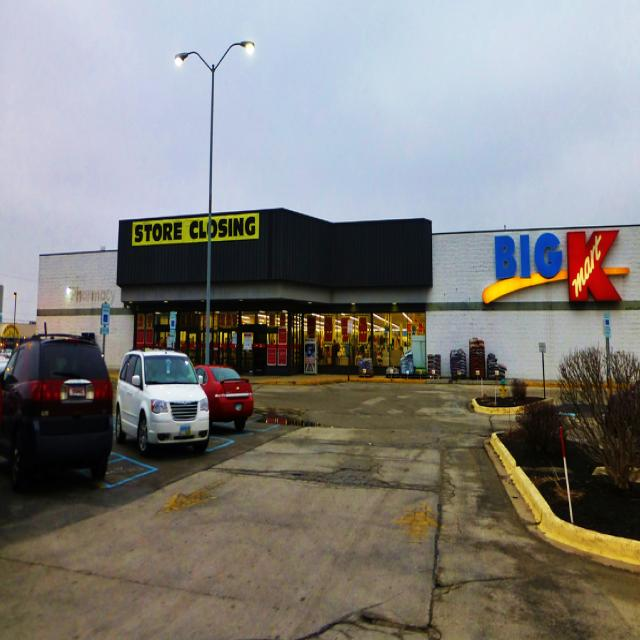car: (112, 345, 210, 451)
